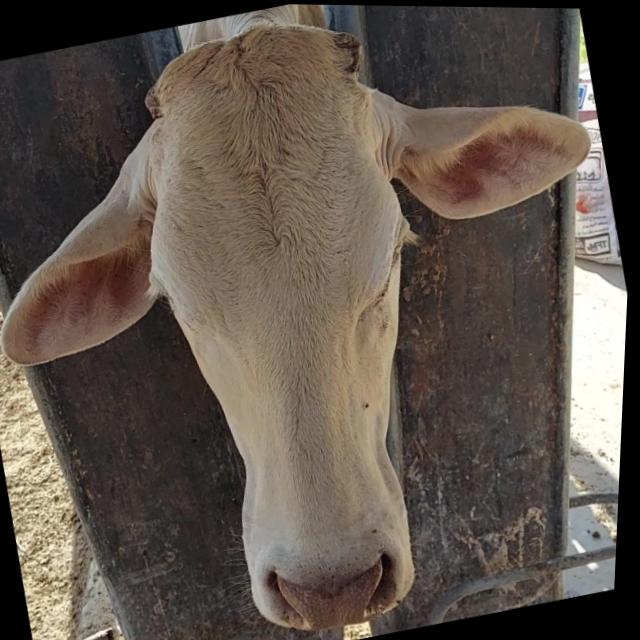cowFace: (91, 1, 493, 640)
